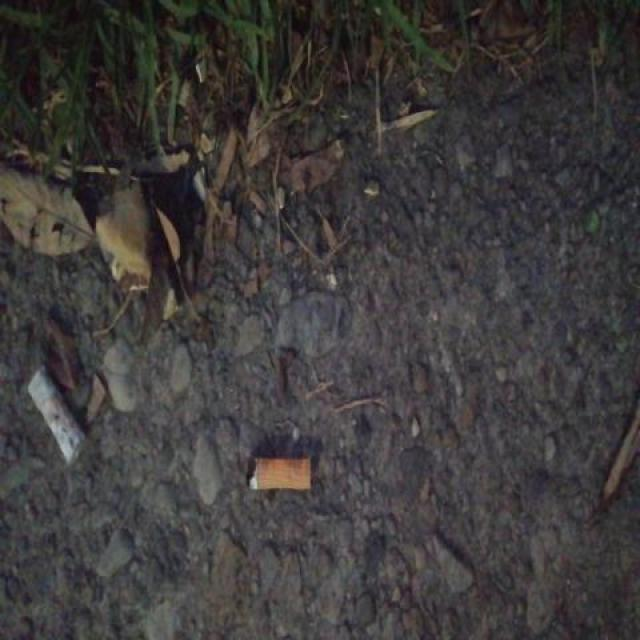non-organic waste: (23, 362, 90, 471), (243, 450, 317, 498)
